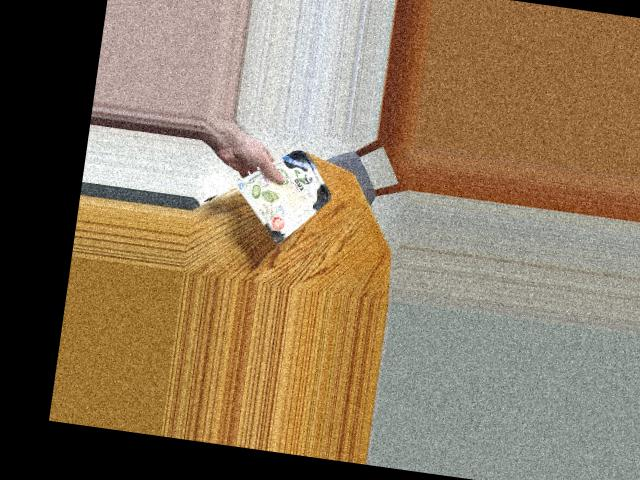cheese: (258, 151, 324, 238)
